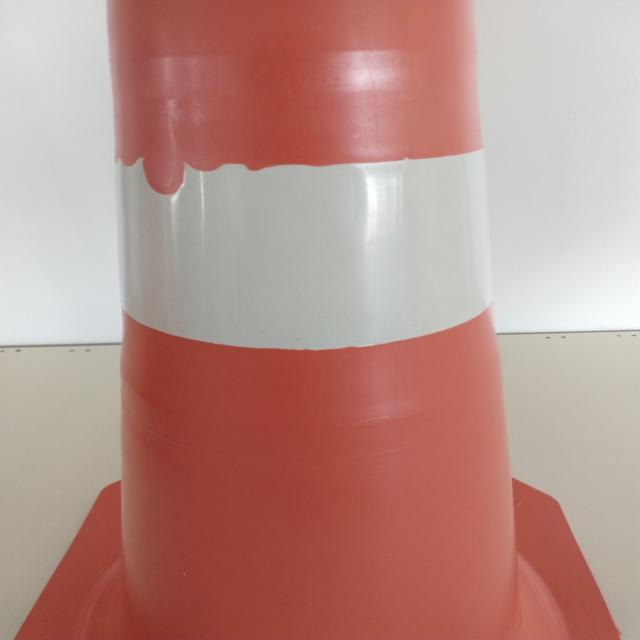cone: (2, 1, 627, 640)
